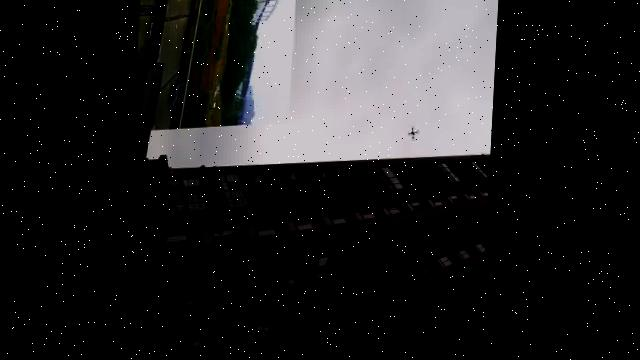drone: (410, 130, 425, 146)
